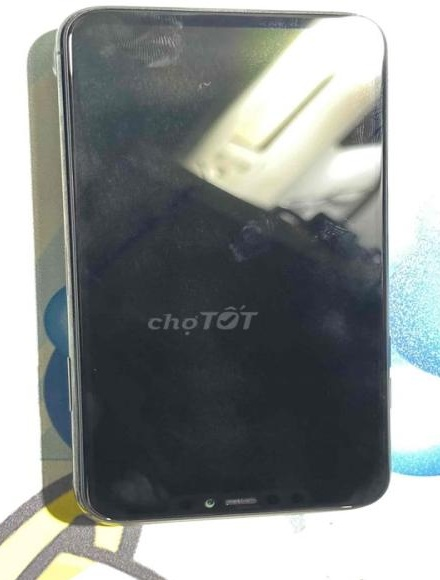scratch: (320, 499, 368, 525), (190, 72, 220, 104), (99, 504, 113, 528)
